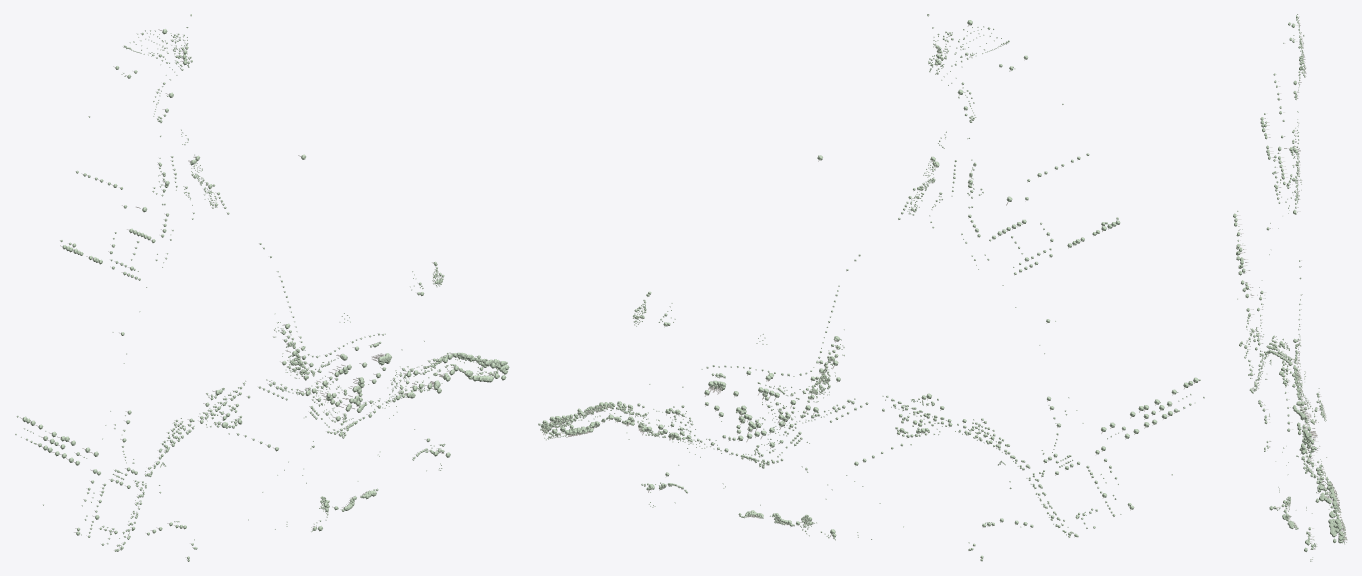
File: trees.glb
3 views of the same model, side by side, from view 1: azimuth 30°, elevation 25°; view 2: azimuth 150°, elevation 25°; view 3: azimuth 270°, elevation 25° (orthographic). The views are drawn at different scales.
Visible parts, largest first — view 1: trees; view 2: trees; view 3: trees.
Boxes of the visible parts, x1,y1,x2,y2 form: trees: (15,14,509,561); trees: (538,14,1204,561); trees: (1233,14,1347,561).
Bounding box in the file's own units: 1066 × 968 × 232.
